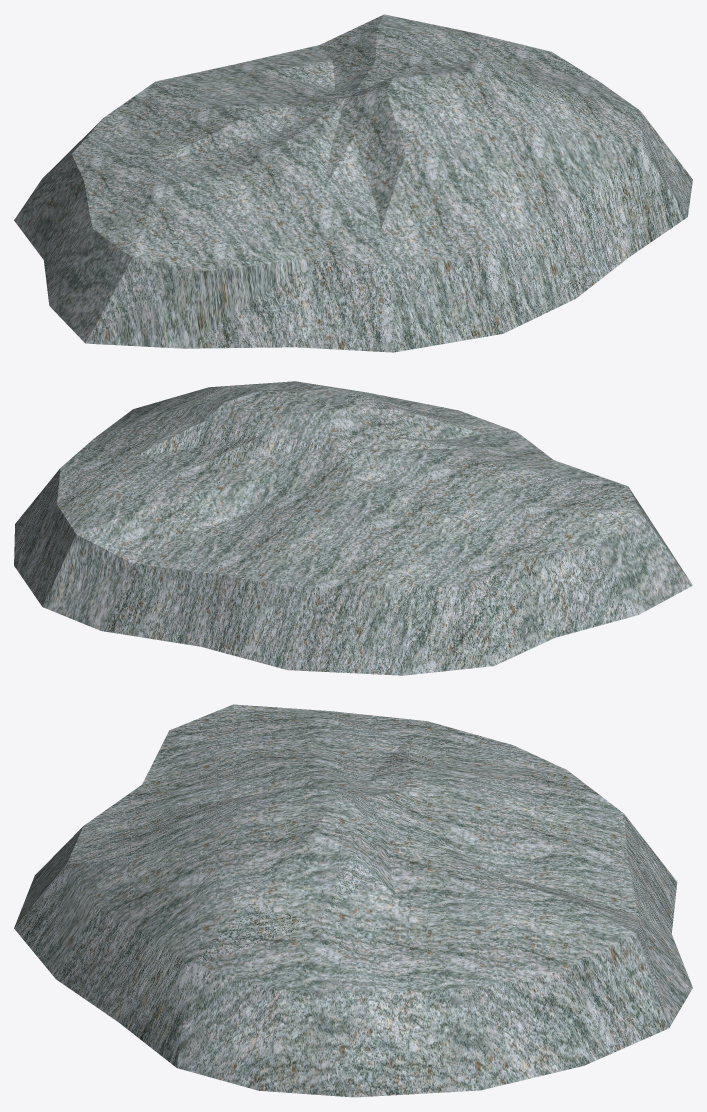
File: rock_graniteslab_large_l0.fbx
3 views of the same model, one above another, from view 1: azimuth 30°, elevation 25°; view 2: azimuth 150°, elevation 25°; view 3: azimuth 270°, elevation 25° (orthographic). The views are drawn at different scales.
Parts seen in each view (by area): view 1: mesh_node; view 2: mesh_node; view 3: mesh_node.
Part boxes in pixels (x1,y1,x2,y2): mesh_node: [14, 14, 692, 352]; mesh_node: [14, 381, 692, 675]; mesh_node: [14, 704, 692, 1097].
Bounding box in the file's own units: 5.99 × 1.27 × 5.
